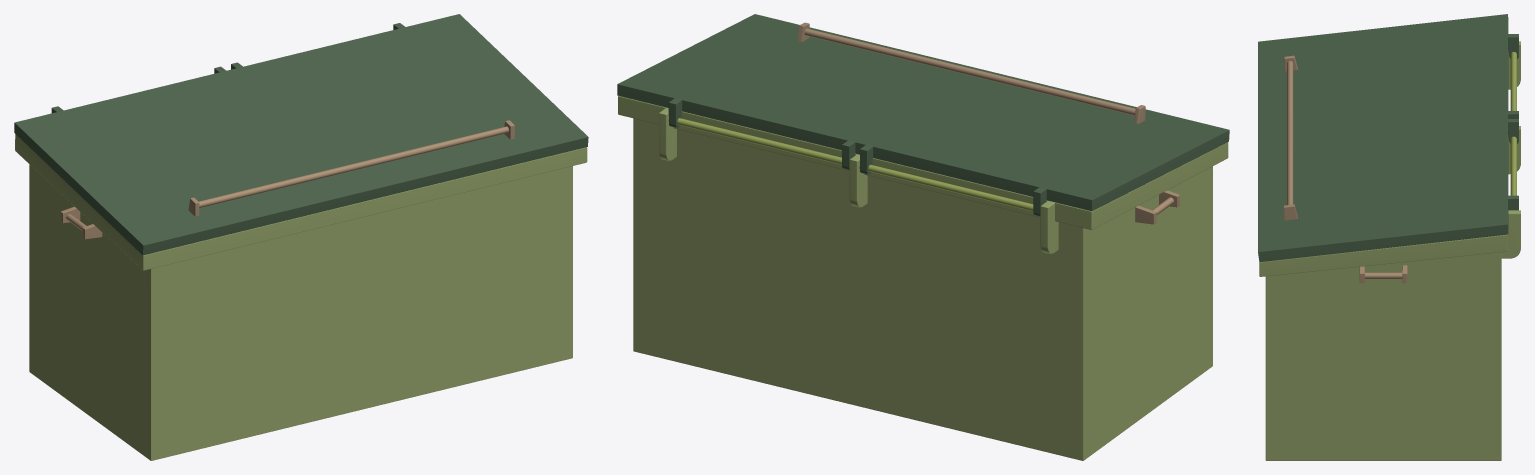
Rendered from Garbagebox.fbx.
3 renders of one model, left to right at view 1: azimuth 30°, elevation 25°; view 2: azimuth 150°, elevation 25°; view 3: azimuth 270°, elevation 25°, orthographic. The views are drawn at different scales.
Visible parts, largest first — view 1: Garbagebox; view 2: Garbagebox; view 3: Garbagebox.
Boxes of the visible parts, bbox=[...] form: Garbagebox: bbox=[14, 14, 588, 460]; Garbagebox: bbox=[617, 14, 1229, 460]; Garbagebox: bbox=[1258, 14, 1520, 460].
Size of the model in its own units: 215 by 113 by 111.
